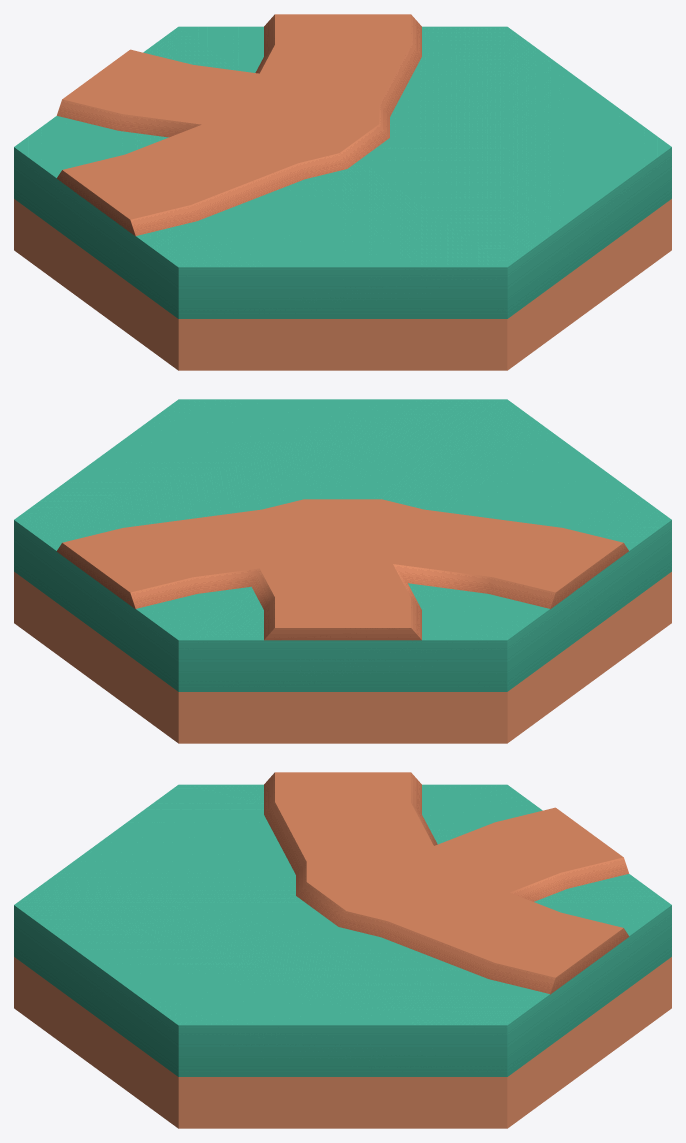
The model's file is grass-path-intersectionA.glb.
3 renders of one model, top to bottom at view 1: azimuth 30°, elevation 25°; view 2: azimuth 150°, elevation 25°; view 3: azimuth 270°, elevation 25°, orthographic.
Parts seen in each view (by area): view 1: grass, path-intersectionA; view 2: grass, path-intersectionA; view 3: grass, path-intersectionA.
Boxes of the visible parts, <box> form: grass: <box>14,26,671,370</box>; path-intersectionA: <box>57,14,421,236</box>; grass: <box>14,399,671,743</box>; path-intersectionA: <box>56,499,628,640</box>; grass: <box>14,784,671,1128</box>; path-intersectionA: <box>264,772,629,994</box>.
Bounding box in the file's own units: 1 × 0.224 × 1.15.
1 material, 1 textured.
